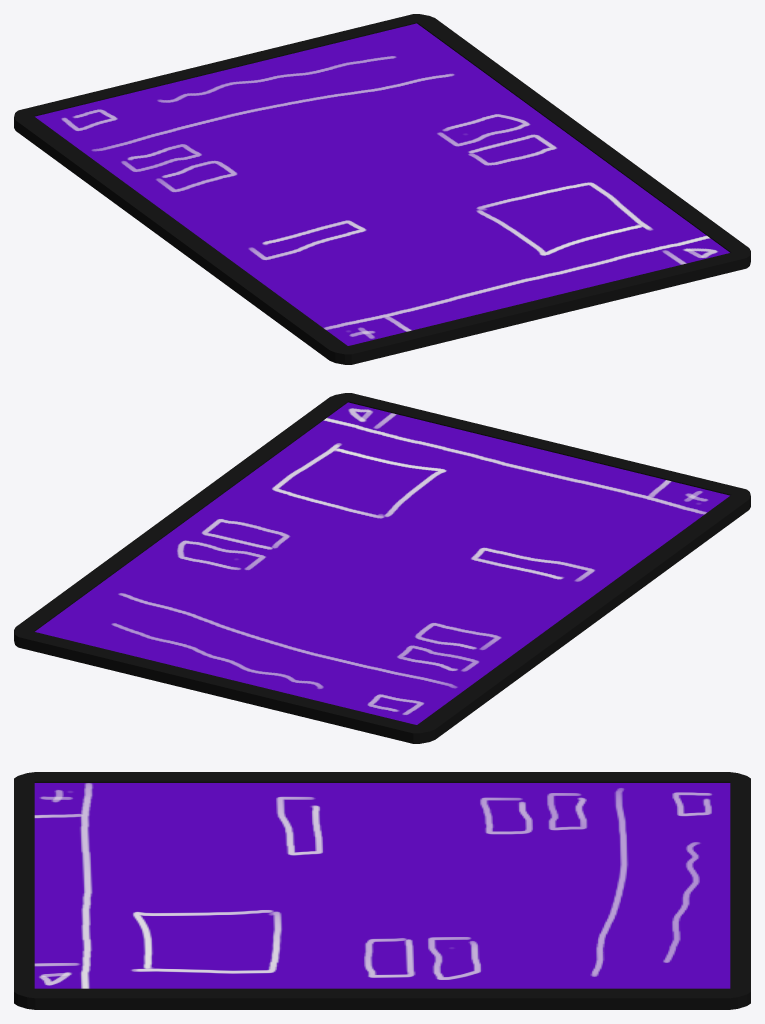
The model's file is tabletImportant.obj.
The picture shows the model from 3 angles, top to bottom: view 1: azimuth 30°, elevation 25°; view 2: azimuth 150°, elevation 25°; view 3: azimuth 270°, elevation 25°; orthographic projection. The views are drawn at different scales.
Visible parts, largest first — view 1: Cube_Material.002, Cube_Material.001; view 2: Cube_Material.002, Cube_Material.001; view 3: Cube_Material.002, Cube_Material.001.
Part boxes in pixels (x1,y1,x2,y2): Cube_Material.002: (35, 23, 729, 345); Cube_Material.001: (14, 14, 750, 364); Cube_Material.002: (35, 402, 729, 724); Cube_Material.001: (14, 393, 750, 743); Cube_Material.002: (34, 783, 730, 988); Cube_Material.001: (14, 772, 750, 1009).
Size of the model in its own units: 6.7 by 0.161 by 9.23.
